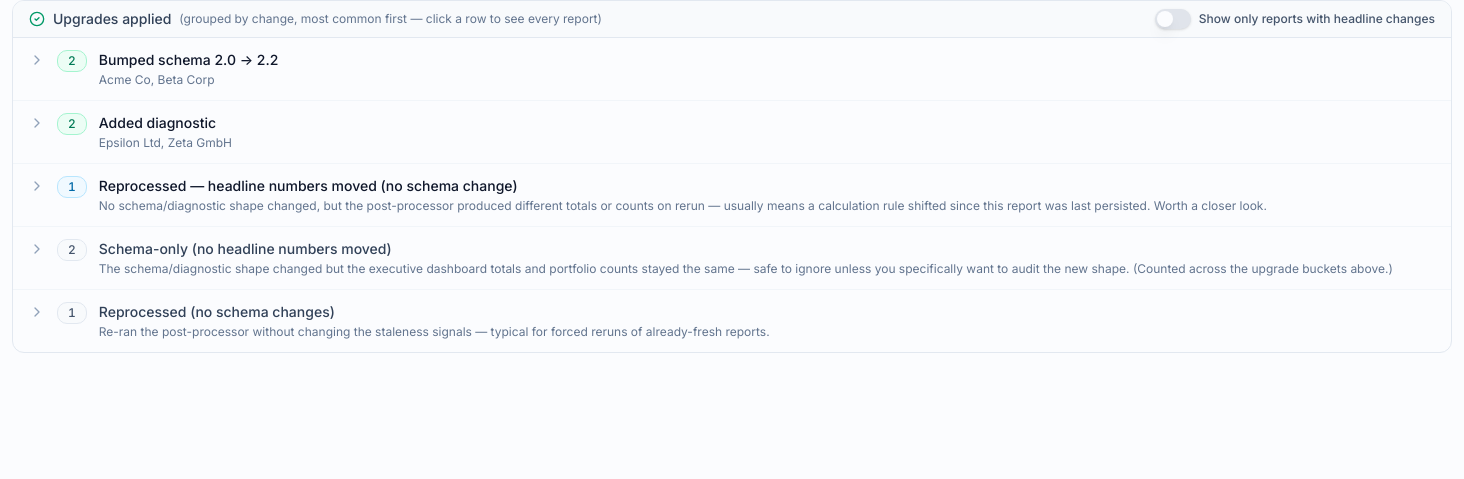
Test: UpgradesAppliedPanel — Copy IDs buttons › reveals button-copy-ids-upgrade-metric-only when the metric-only bucket expands
Click the 3rd button at (732, 195), box [13,164,1451,226]
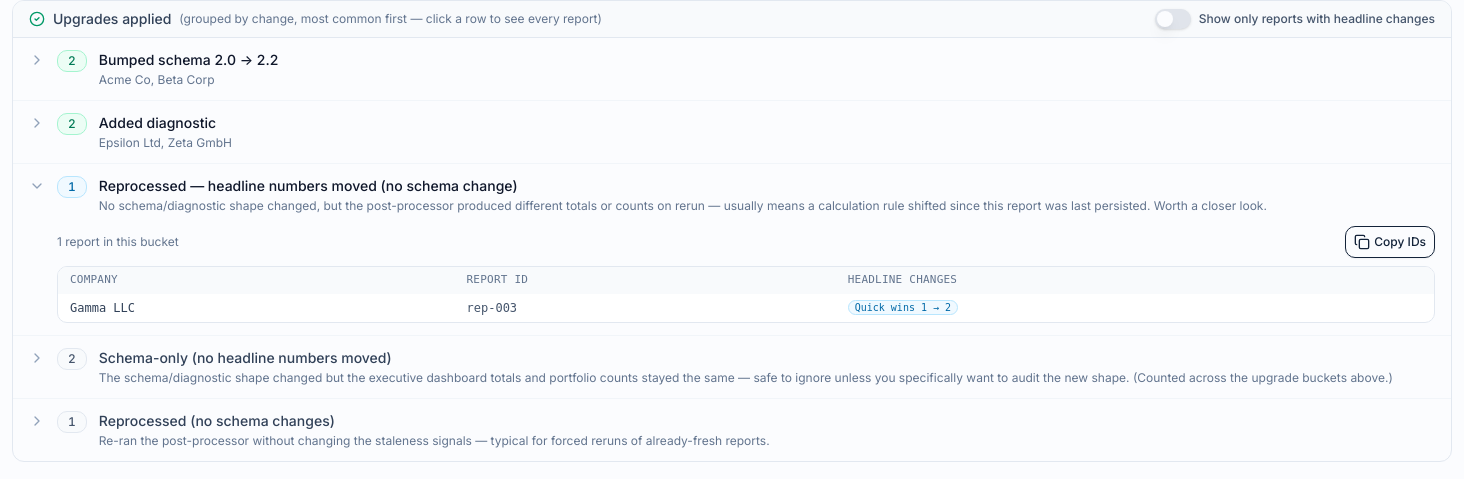
Now the button "Copy IDs" is shown, box [1345,226,1435,258]
